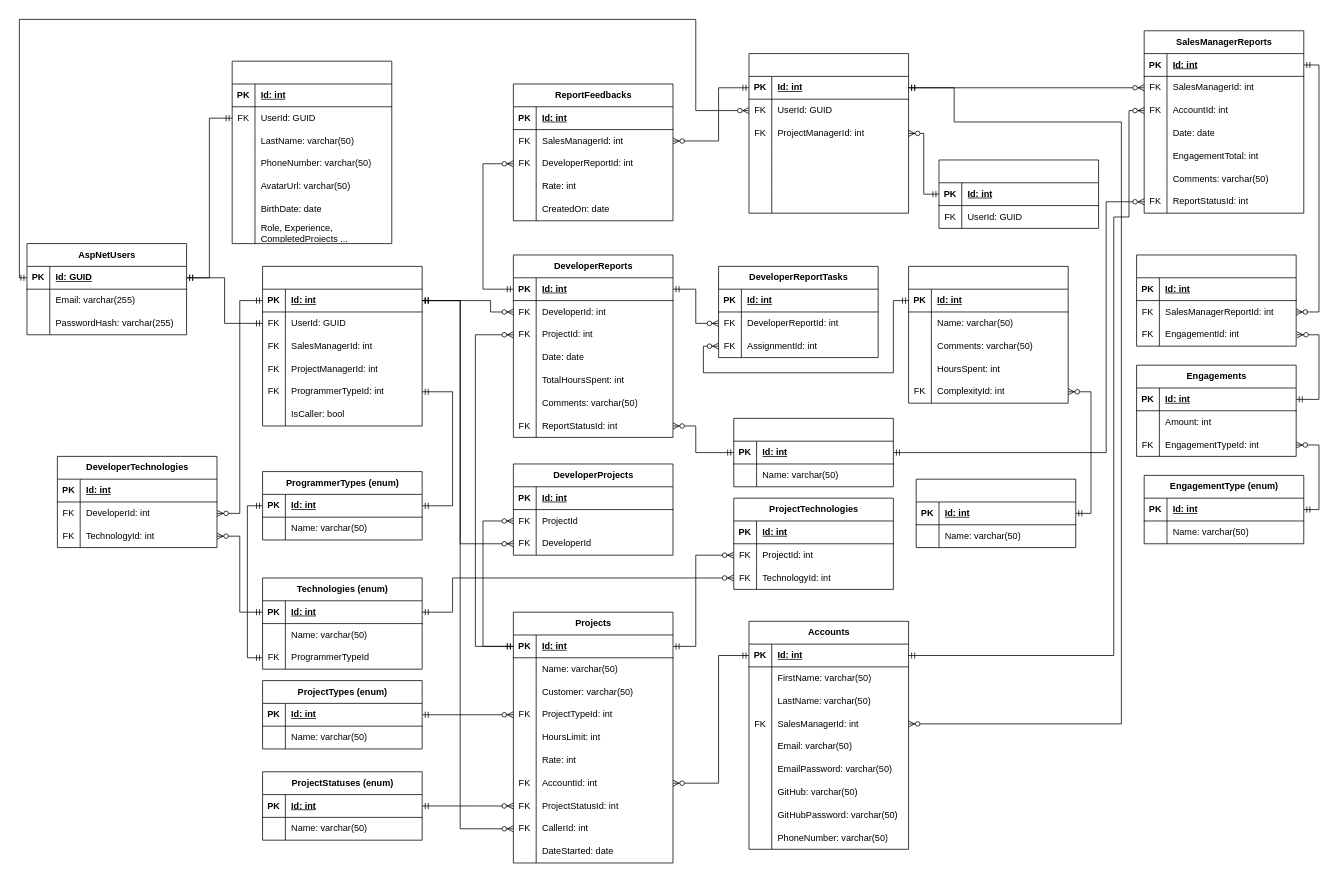
Some shapes in this 1339 by 876 pixel diagram are drawn without their labels. Here are the shapes that lost their labels. From the top down, the box of each, then its label:
(231, 60, 392, 244): UserProfiles
(748, 53, 909, 213): SalesManagers
(938, 159, 1099, 228): Project Managers
(1136, 254, 1296, 346): SalesManagerReportEngagements
(262, 266, 422, 426): Developers
(908, 266, 1068, 403): Assignments
(733, 418, 893, 487): ReportStatuses (enum)
(915, 478, 1076, 548): Complexities (enum)
